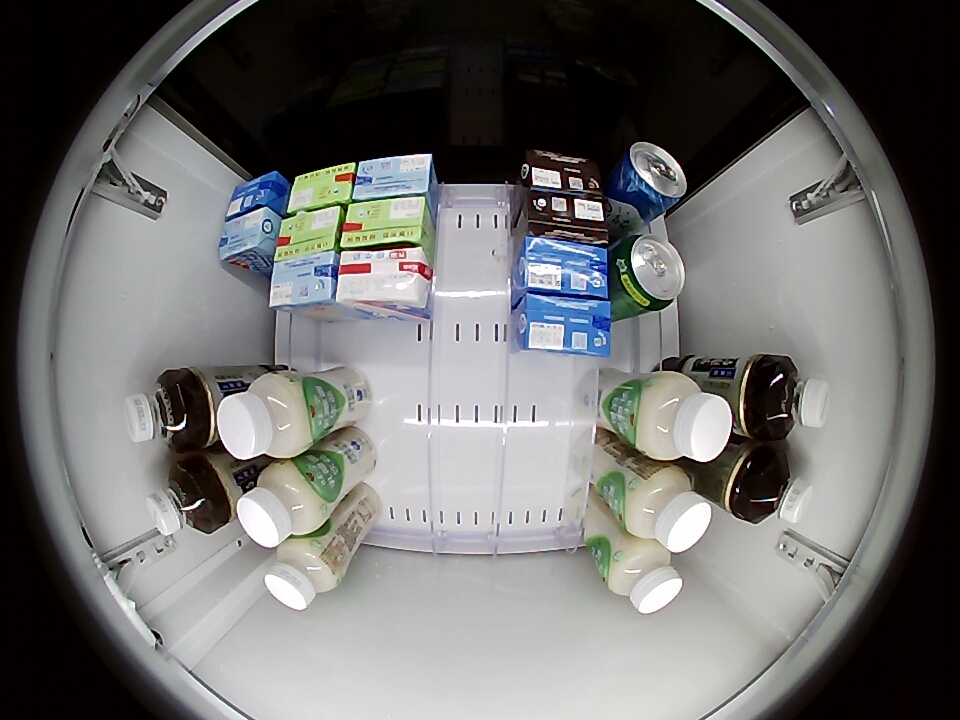damaicha: (146, 460, 222, 536)
niunai: (336, 245, 433, 312)
qingdaowangzi-2: (613, 141, 687, 212)
wanglaoji: (339, 196, 432, 250), (274, 206, 344, 260), (286, 162, 357, 214)
weitanai: (514, 291, 613, 357), (513, 235, 610, 299), (225, 170, 289, 219)
weitanai2: (526, 191, 607, 243), (520, 150, 603, 197)
weitanaiditang: (268, 252, 340, 312), (350, 154, 436, 203), (218, 206, 279, 271)
wulongcha: (756, 356, 831, 439), (124, 369, 199, 451), (741, 450, 814, 525)
xuebi2: (611, 234, 687, 312)
yousuanru: (633, 371, 732, 463), (217, 369, 314, 460), (236, 459, 329, 548), (622, 464, 713, 552), (602, 537, 684, 613), (264, 536, 343, 610)
